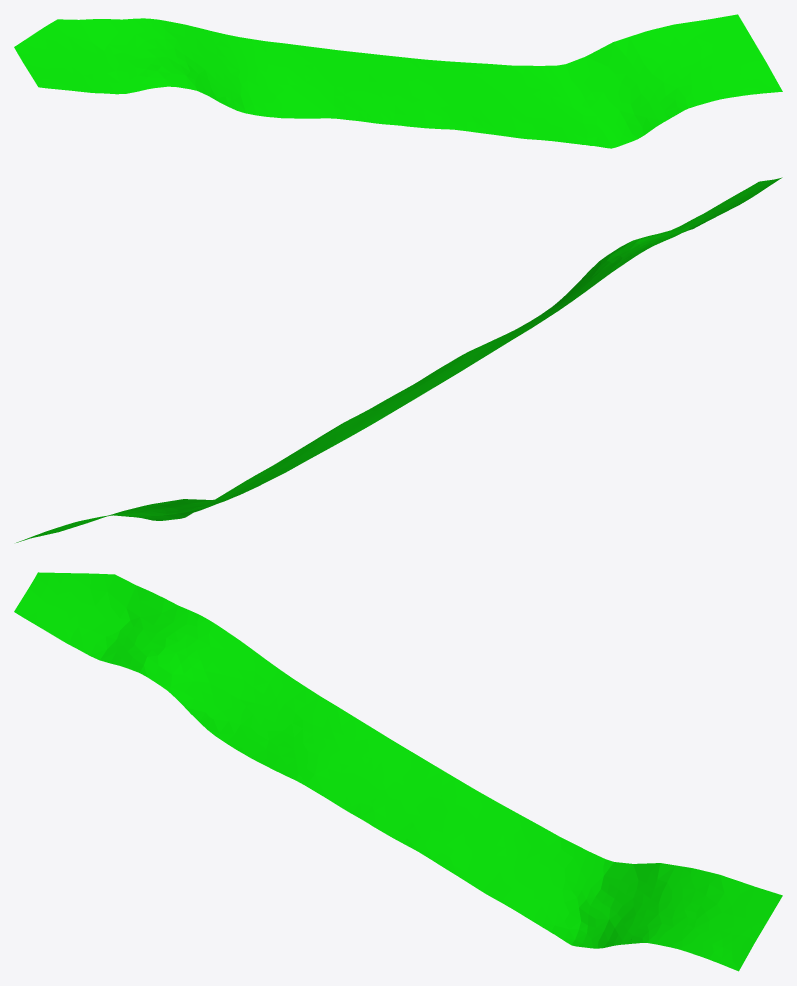
File: Fault_Shettleston_50m_GGERFS_Predrill.gltf
3 views of the same model, one above another, from view 1: azimuth 30°, elevation 25°; view 2: azimuth 210°, elevation 25°; view 3: azimuth 330°, elevation 25° (orthographic).
Parts seen in each view (by area): view 1: FAULT_SHETTLESTON_50M_GGERFS_PREDRILL; view 2: FAULT_SHETTLESTON_50M_GGERFS_PREDRILL; view 3: FAULT_SHETTLESTON_50M_GGERFS_PREDRILL.
Part boxes in pixels (bbox=[...]): FAULT_SHETTLESTON_50M_GGERFS_PREDRILL: bbox=[14, 14, 782, 148]; FAULT_SHETTLESTON_50M_GGERFS_PREDRILL: bbox=[16, 177, 782, 542]; FAULT_SHETTLESTON_50M_GGERFS_PREDRILL: bbox=[14, 572, 782, 971].
Size of the model in its own units: 5000 by 1423 by 526.
